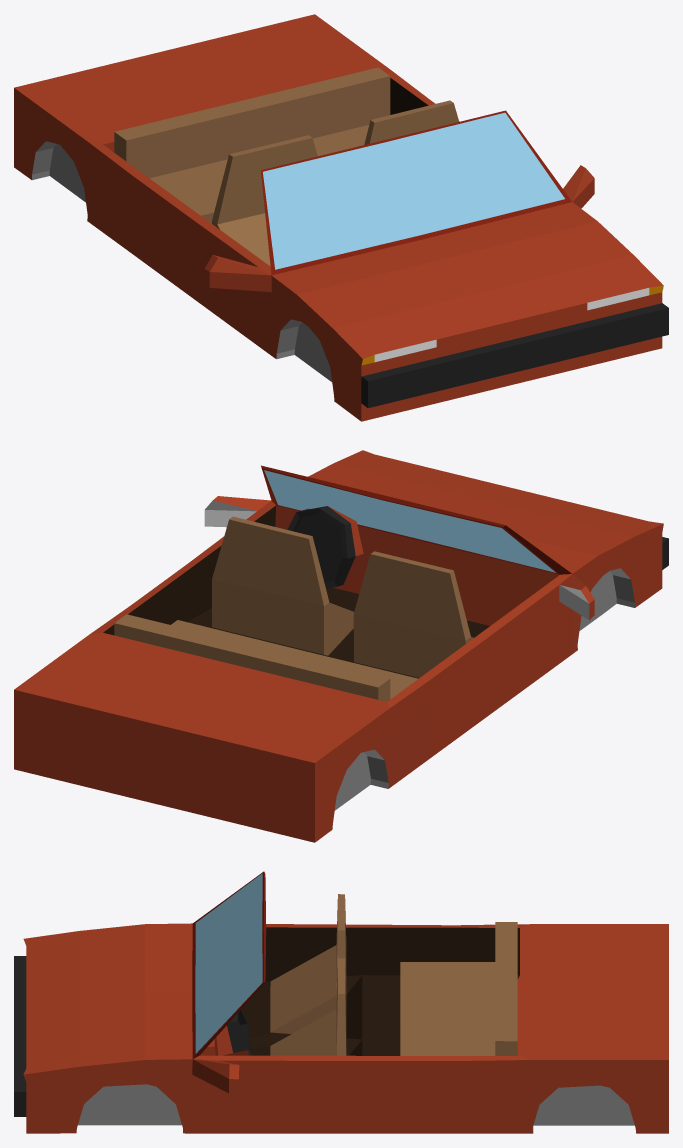
The model's file is red_convertible.glb.
3 views of the same model, one above another, from view 1: azimuth 30°, elevation 25°; view 2: azimuth 150°, elevation 25°; view 3: azimuth 270°, elevation 25° (orthographic). The views are drawn at different scales.
Parts seen in each view (by area): view 1: RedConvertible; view 2: RedConvertible; view 3: RedConvertible.
Part boxes in pixels (left/top/right/bottom): RedConvertible: left=14, top=14, right=668, bottom=421; RedConvertible: left=14, top=450, right=668, bottom=842; RedConvertible: left=14, top=871, right=668, bottom=1133.
Bounding box in the file's own units: 2.56 × 0.9564 × 4.08.
2 materials, 2 textured.
